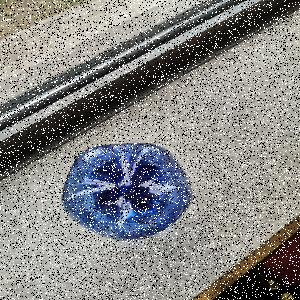Plastic-bottle: (62, 143, 196, 244)
